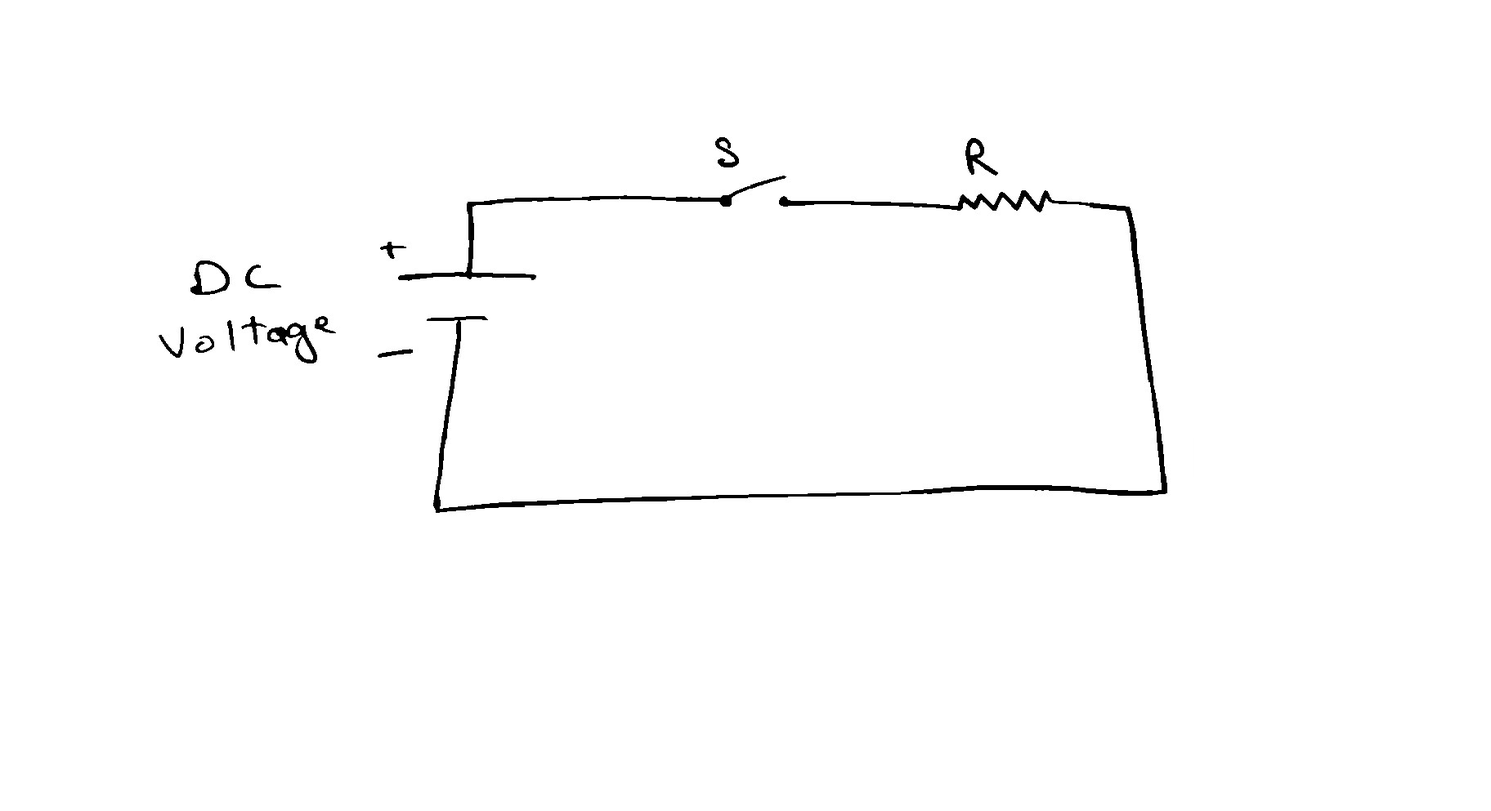junction: (1114, 198, 1138, 225), (428, 497, 446, 518), (461, 195, 479, 215), (1155, 483, 1171, 501)
resistor: (951, 187, 1058, 216)
switch: (715, 168, 798, 212)
text: (155, 308, 341, 369), (183, 257, 291, 302), (964, 135, 1001, 178), (713, 134, 745, 168)
voltage.battery: (394, 267, 552, 329)
